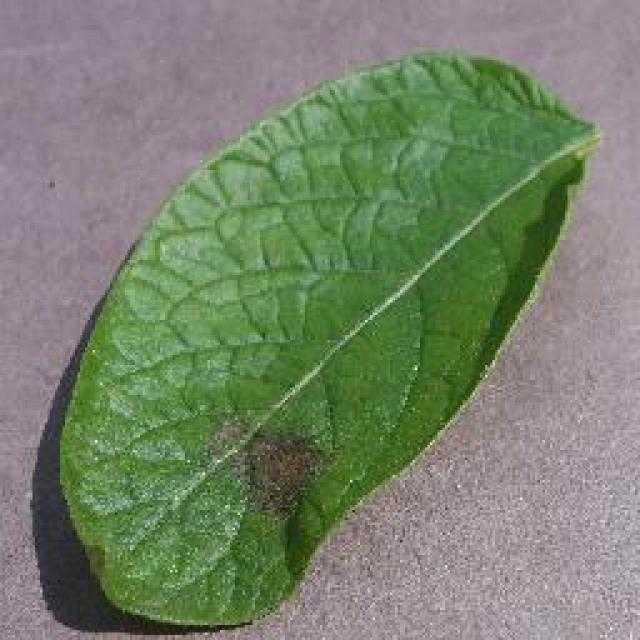Late_blight: (158, 400, 354, 530)
